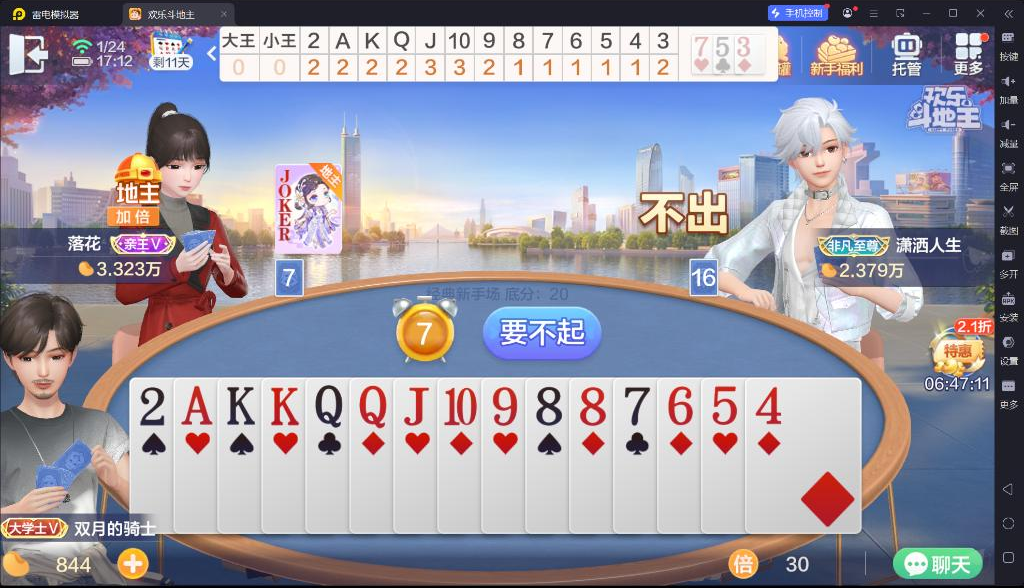A: (180, 383, 215, 427)
J: (399, 384, 431, 427)
JOKER: (277, 166, 296, 217)
K: (222, 384, 258, 427), (268, 384, 301, 427)
Q: (355, 382, 389, 429), (310, 382, 344, 429)
eight: (532, 383, 564, 429), (575, 384, 609, 427)
five: (707, 383, 740, 428), (714, 36, 730, 58)
four: (753, 384, 785, 426)
nine: (488, 384, 520, 427)
seven: (619, 383, 651, 428), (693, 35, 710, 58)
six: (662, 383, 696, 427)
ten: (442, 384, 478, 427)
three: (736, 36, 751, 58)
two: (137, 384, 168, 430)
